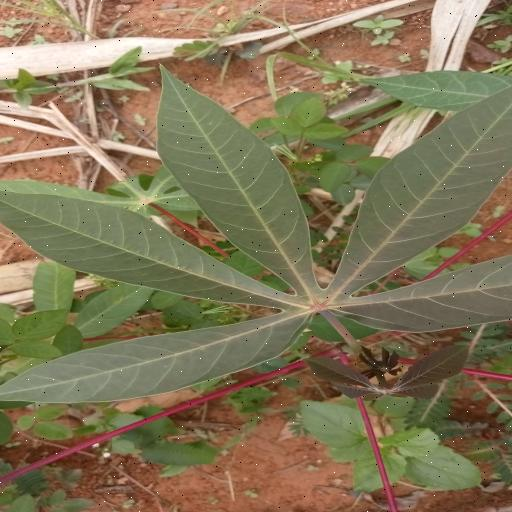Cassava_Healthy: (0, 70, 512, 403)
